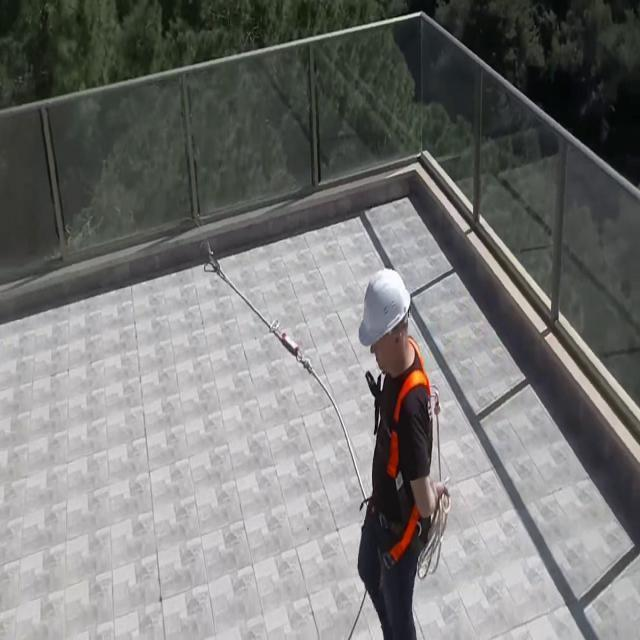Harness: (206, 250, 368, 502), (385, 371, 432, 569)
